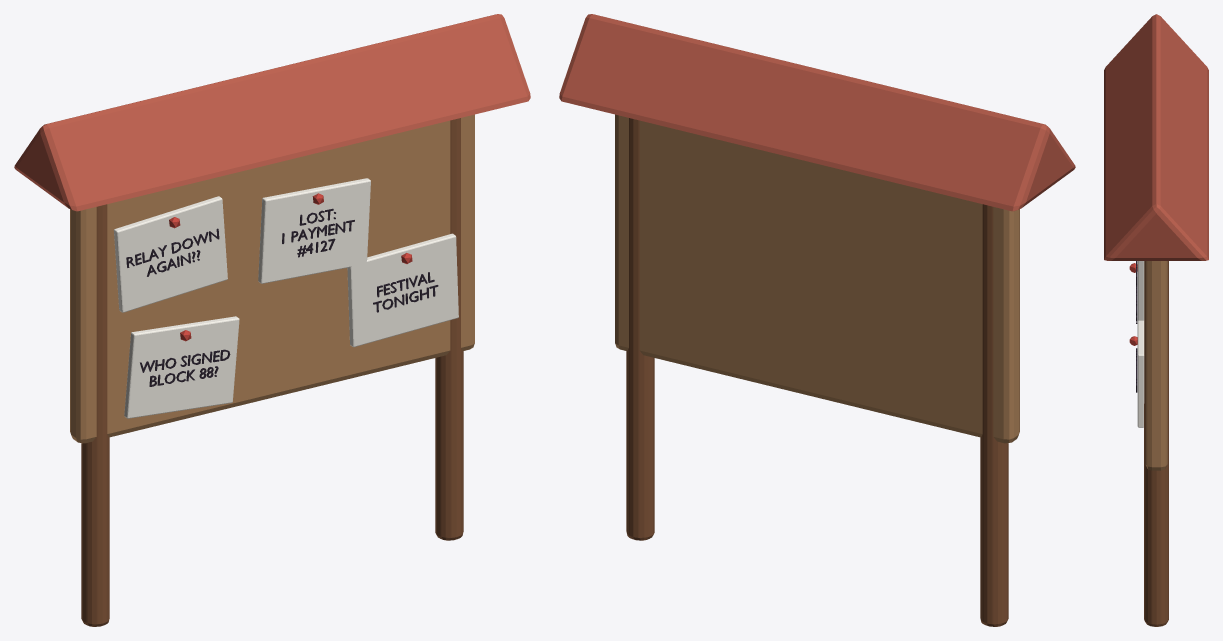
File: noticeboard.glb
3 renders of one model, left to right at view 1: azimuth 30°, elevation 25°; view 2: azimuth 150°, elevation 25°; view 3: azimuth 270°, elevation 25°, orthographic. The views are drawn at different scales.
Parts seen in each view (by area): view 1: noticeboard; view 2: noticeboard; view 3: noticeboard.
Part boxes in pixels (<box>): noticeboard: <box>14,14,530,626</box>; noticeboard: <box>559,14,1075,626</box>; noticeboard: <box>1104,14,1208,626</box>.
Size of the model in its own units: 2.1 by 2.21 by 0.4773.
